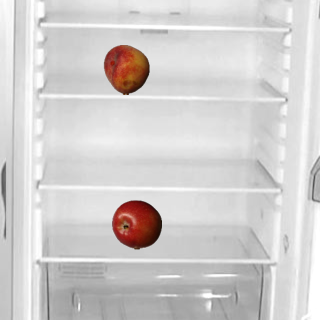Apple Braeburn: (111, 199, 161, 249)
Peach: (101, 44, 151, 94)
